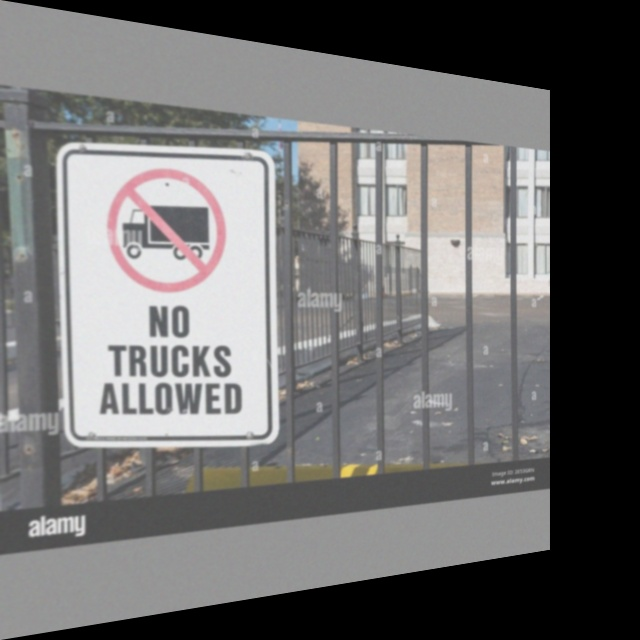Truck_Prohibited: (100, 153, 231, 300)
